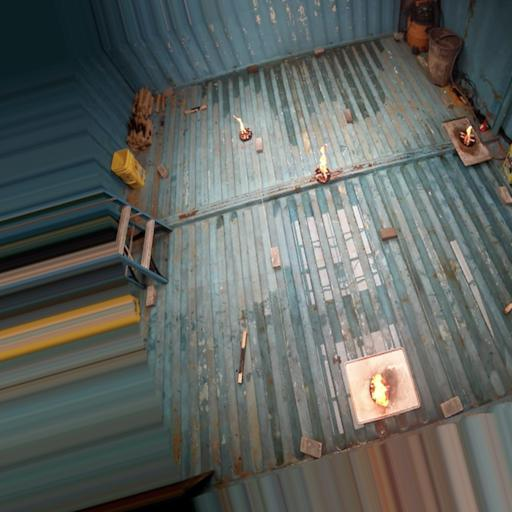Fire: (369, 373, 391, 406), (317, 145, 330, 176), (233, 113, 248, 134), (465, 123, 472, 137)
